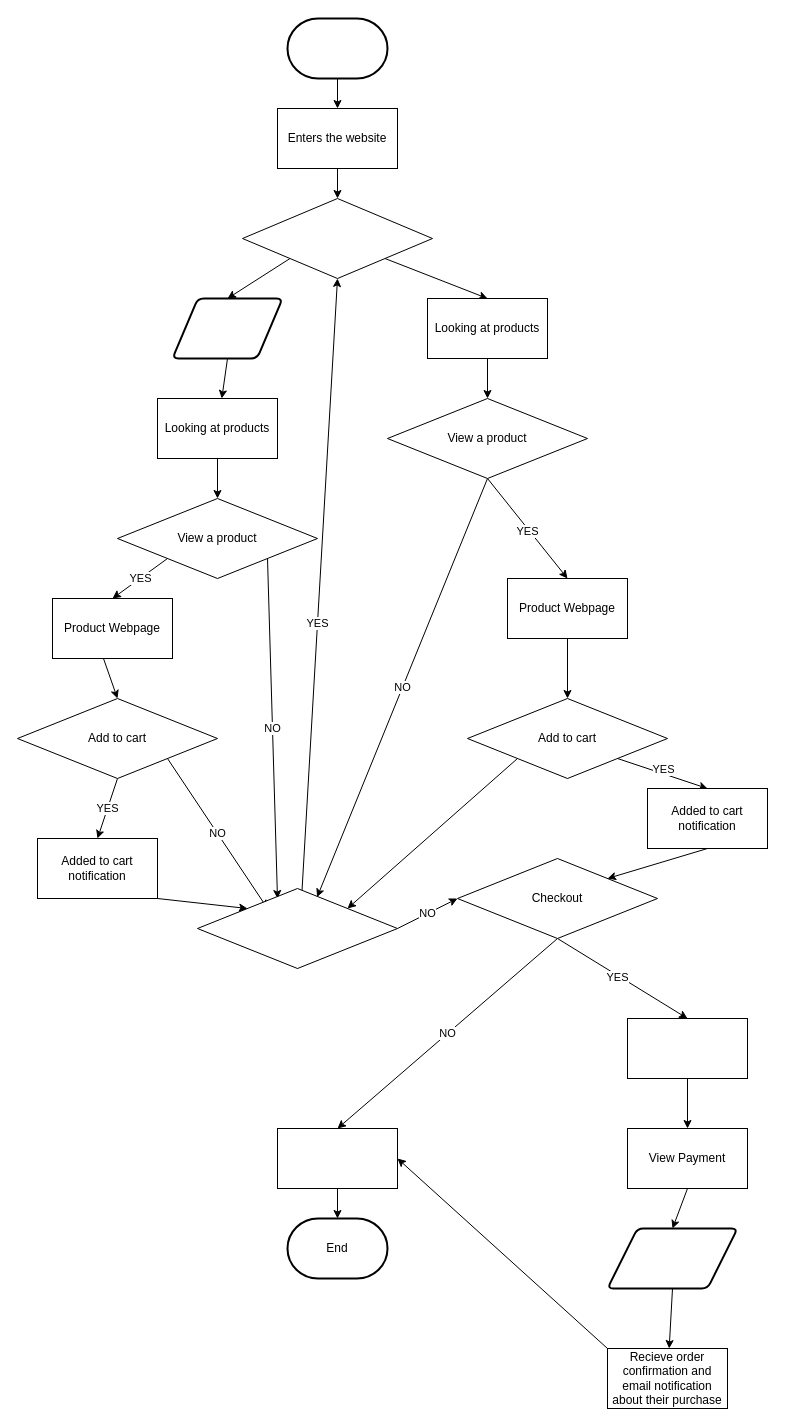
This 785x1426 diagram has some shape labels left out. Each missing label, with the centre of its shape:
Chooses to either search for a product or explore products: the point at 337,238
Continue shopping: the point at 297,928
Leave the website: the point at 337,1158
Payment details: the point at 672,1258
Product details: the point at 227,328
Start: the point at 337,48
View Cart: the point at 687,1048
